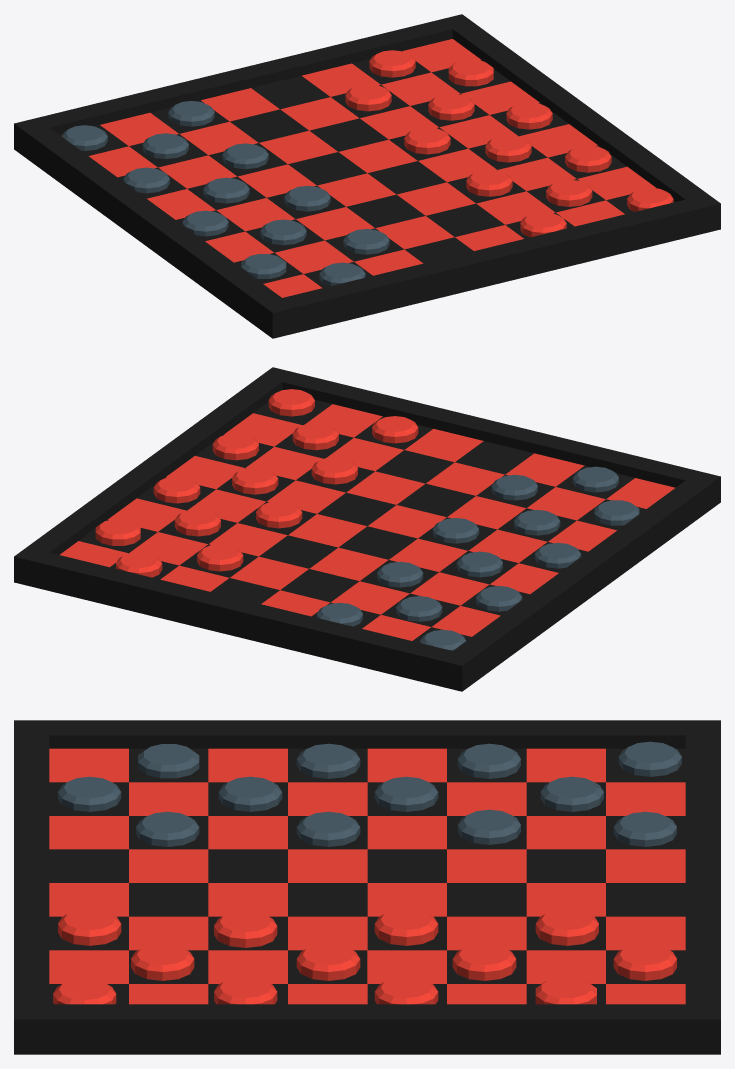
File: classic_checkerboard.glb
3 views of the same model, one above another, from view 1: azimuth 30°, elevation 25°; view 2: azimuth 150°, elevation 25°; view 3: azimuth 270°, elevation 25° (orthographic). The views are drawn at different scales.
Visible parts, largest first — view 1: Node; view 2: Node; view 3: Node.
Part boxes in pixels (x1,y1,x2,y2): Node: (14,14,720,338); Node: (14,367,720,691); Node: (14,720,720,1054).
Size of the model in its own units: 1.45 by 0.08 by 1.45.
